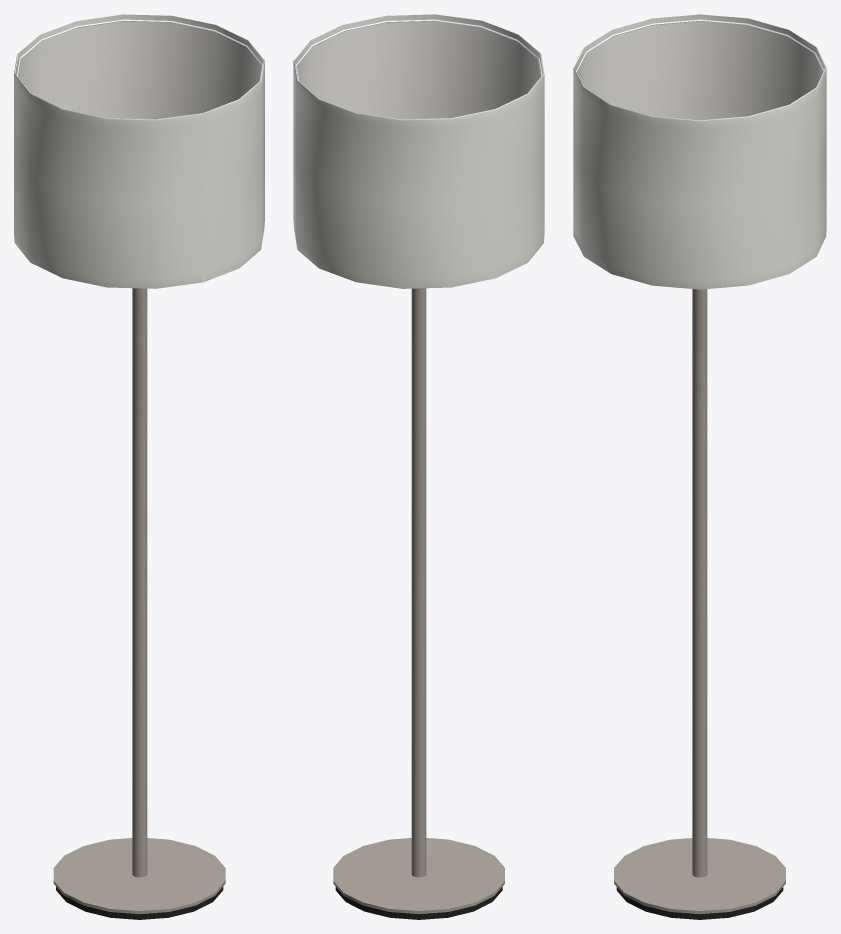
Rendered from 23 - RINGSTA SKAFTET Floor lamp - whitenickel-plated.glb.
3 renders of one model, left to right at view 1: azimuth 30°, elevation 25°; view 2: azimuth 150°, elevation 25°; view 3: azimuth 270°, elevation 25°, orthographic.
Parts seen in each view (by area): view 1: Mesh_0; view 2: Mesh_0; view 3: Mesh_0.
Boxes of the visible parts, box(x1,y1,x2,y2) form: Mesh_0: box(14, 14, 264, 919); Mesh_0: box(293, 14, 544, 919); Mesh_0: box(573, 14, 826, 919).
Size of the model in its own units: 0.4209 by 1.5 by 0.4218.
1 material, 1 textured.
